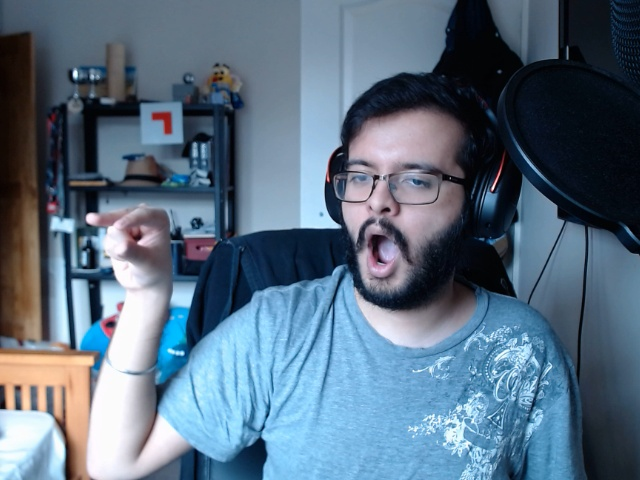No: (81, 181, 191, 328)
